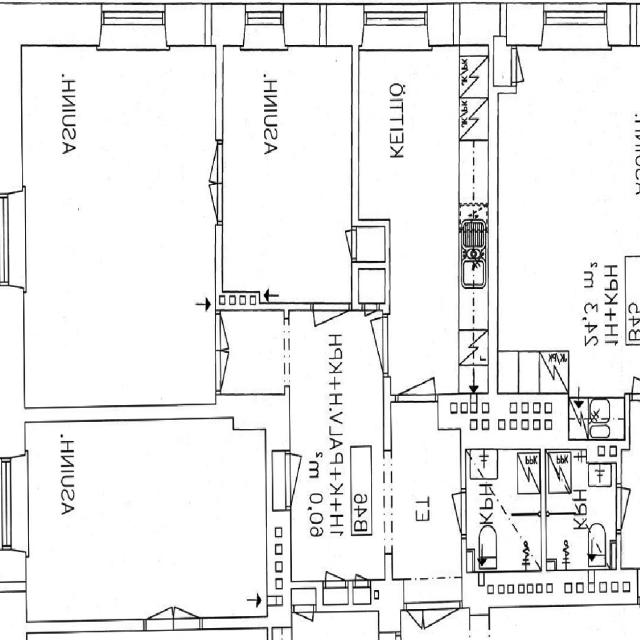door: (346, 317, 392, 373), (398, 340, 436, 402), (286, 453, 328, 506), (313, 302, 349, 362), (432, 492, 467, 535), (188, 182, 224, 221), (188, 144, 224, 182), (216, 352, 248, 391), (216, 314, 248, 352), (331, 229, 359, 259), (325, 550, 346, 588), (406, 604, 423, 637), (356, 562, 368, 589), (365, 302, 377, 328)
